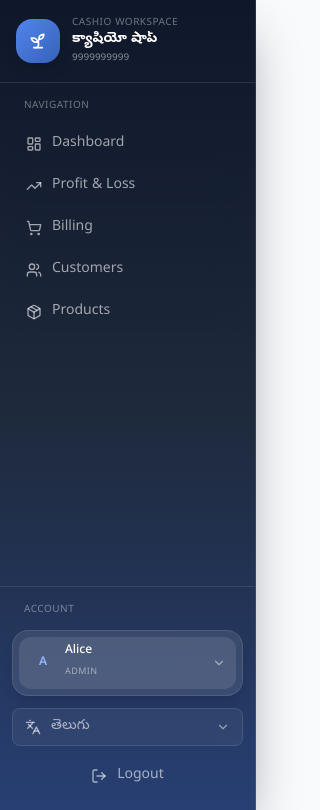
it: Sidebar › shows Telugu branding and toggles the profile submenu based on permissions
expect the heading "క్యాషియో షాప్" is shown: met, box [72, 30, 157, 49]
Step 1. Click the button "A Alice admin" → click(128, 663), box [19, 637, 236, 689]
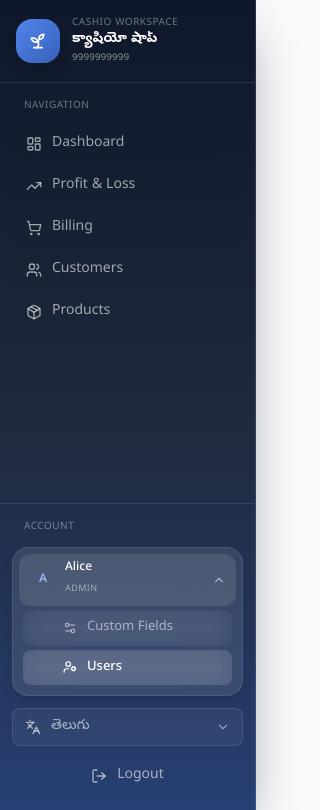
expect the link "Custom Fields" is shown: met, box [63, 619, 173, 636]
expect the link "Users" is shown: met, box [23, 650, 232, 685]
